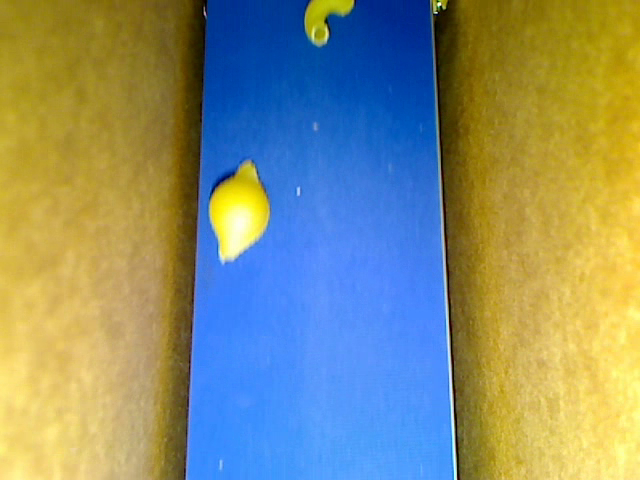elbow: (305, 1, 354, 48)
shell: (208, 156, 271, 265)
